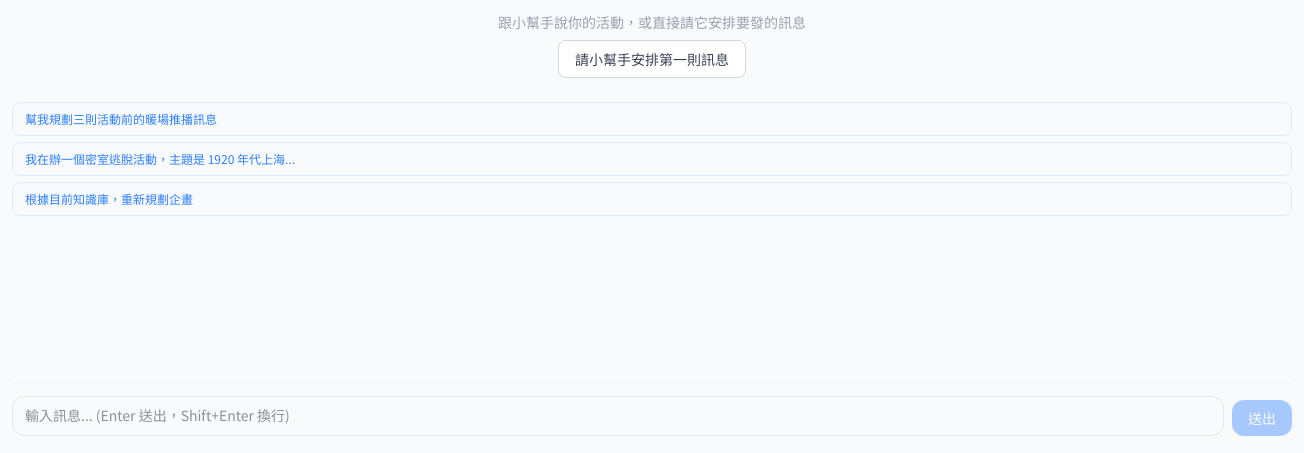
Test case: AgentChatPanel — async queued + onSnapshot › shows error when snapshot status = failed
Step 1. Type "規劃" into the text box with placeholder "輸入訊息... (Enter 送出，Shift+Enter 換行)" → (618, 416), box top-left (12, 396), bottom-right (1224, 436)
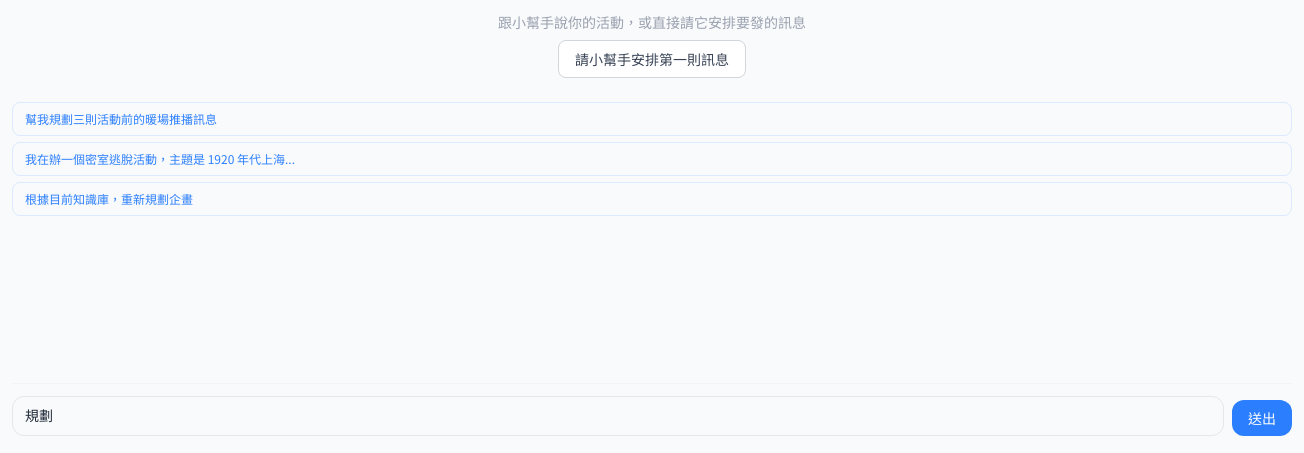
Step 2. Click the button "送出" → (1262, 418), box top-left (1232, 400), bottom-right (1292, 436)
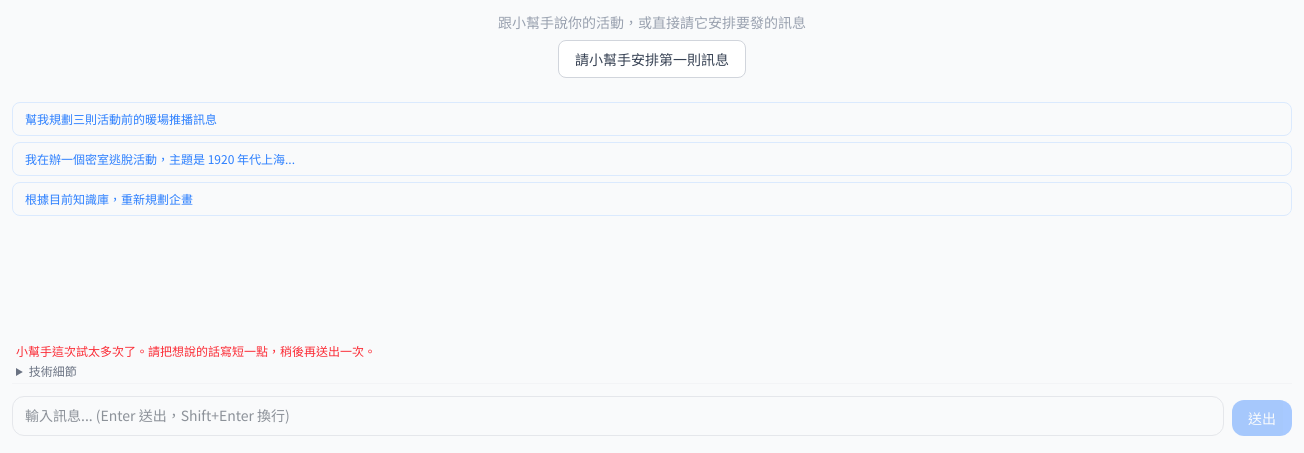
expect the message does not show "max_llm_calls_exceeded": met, box top-left (16, 342), bottom-right (376, 359)
expect the message shows "小幫手這次試太多次了": met, box top-left (16, 342), bottom-right (376, 359)
